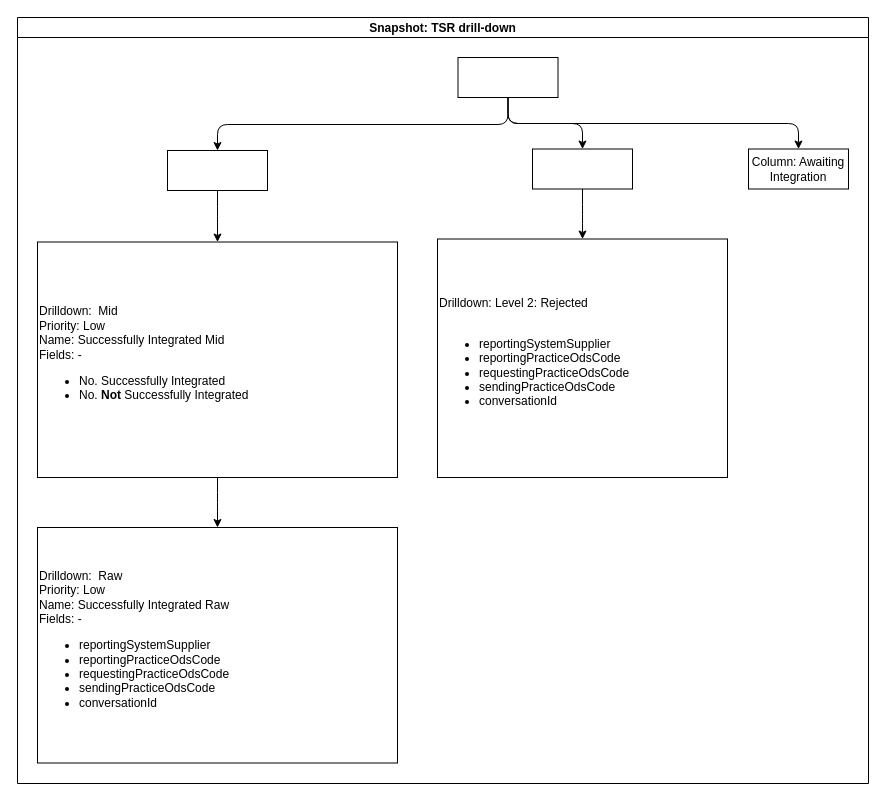
Some shapes in this 886 by 801 pixel diagram are drawn without their labels. The shapes that lost their labels are listed below. From the top down, each one's centre as x and y in pixels, then its label:
the point at 507,77: Snapshot: Transfer status report
the point at 217,170: Column: Successfully Integrated
the point at 582,168: Column: Rejected
